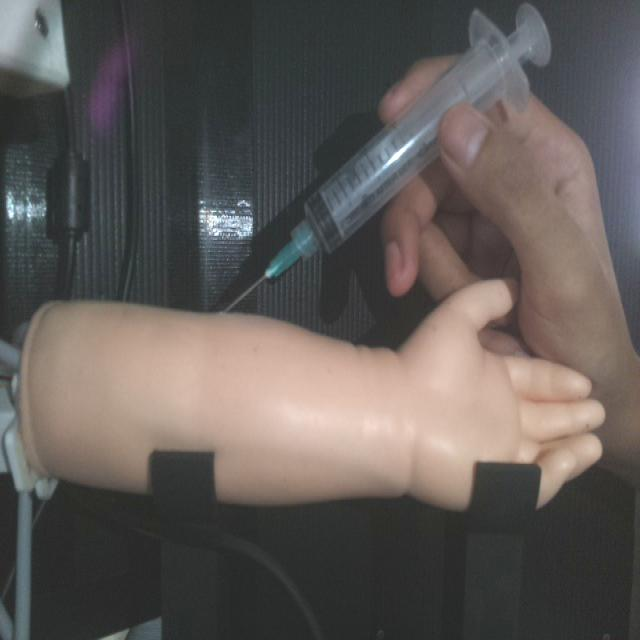Above 30 degrees: (218, 2, 553, 314)
